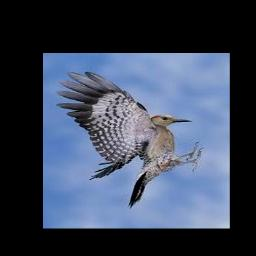Woodpecker: (56, 72, 203, 208)
